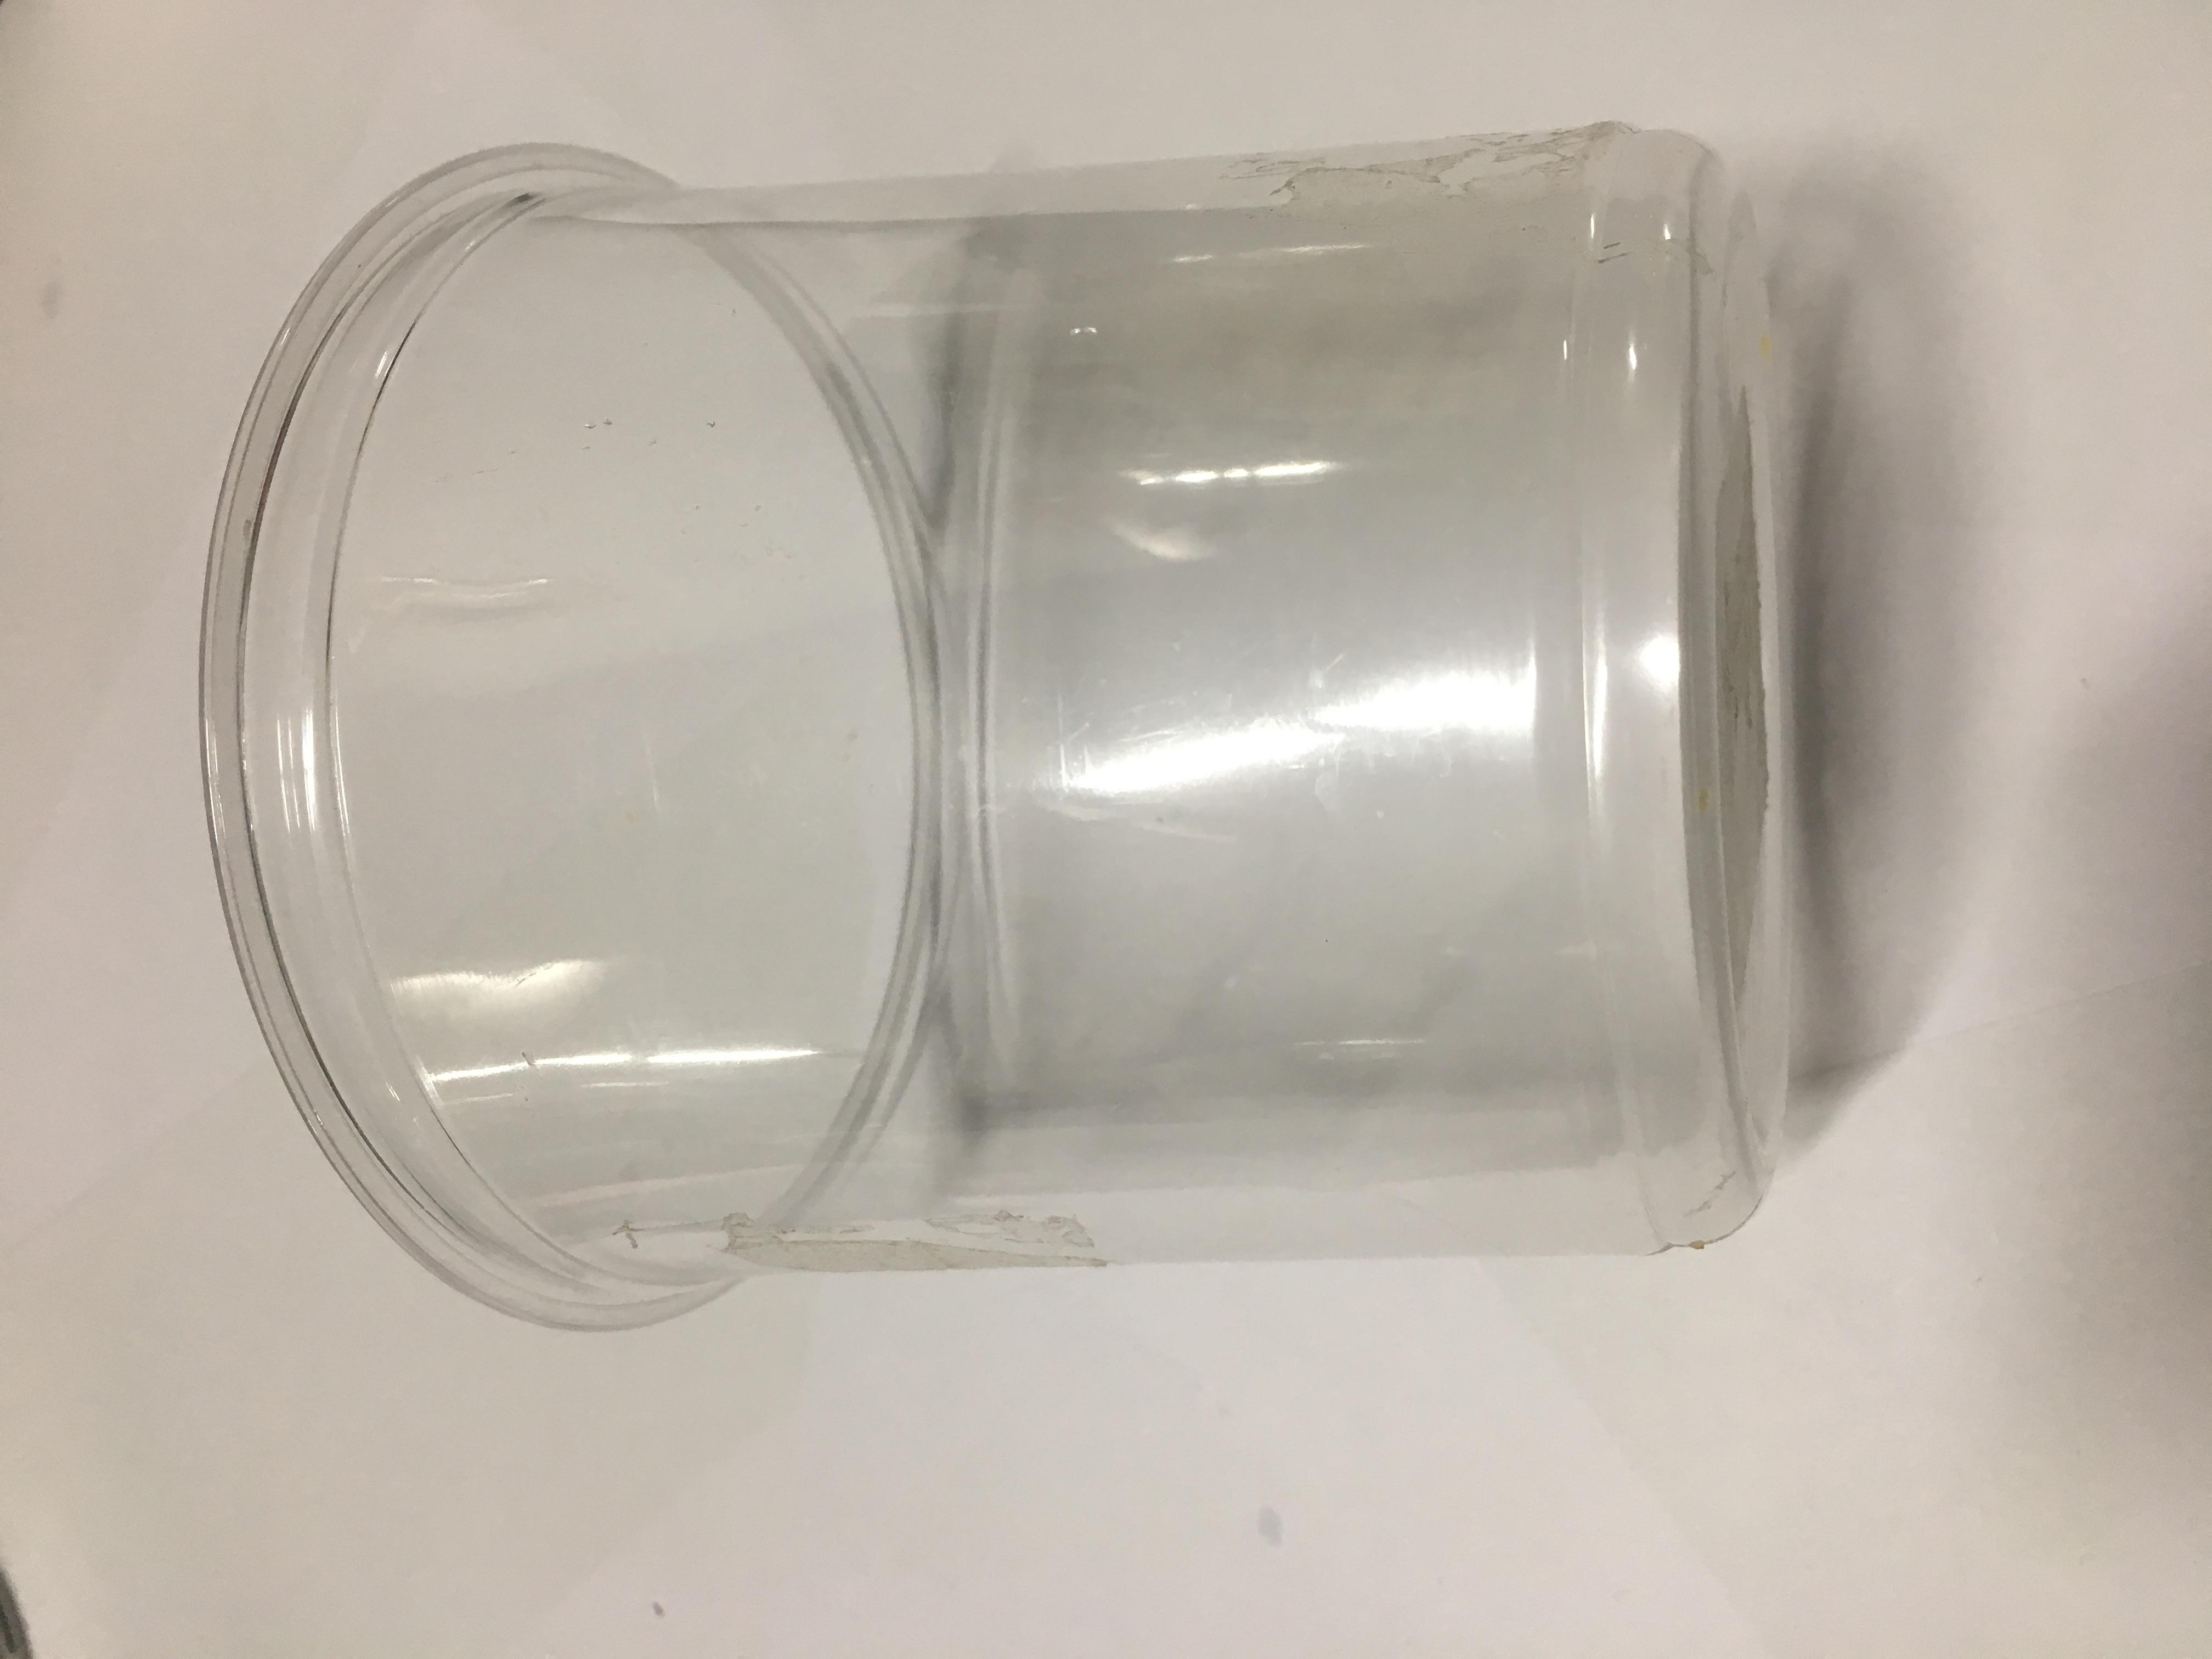bottle: (1191, 169, 1291, 1340)
